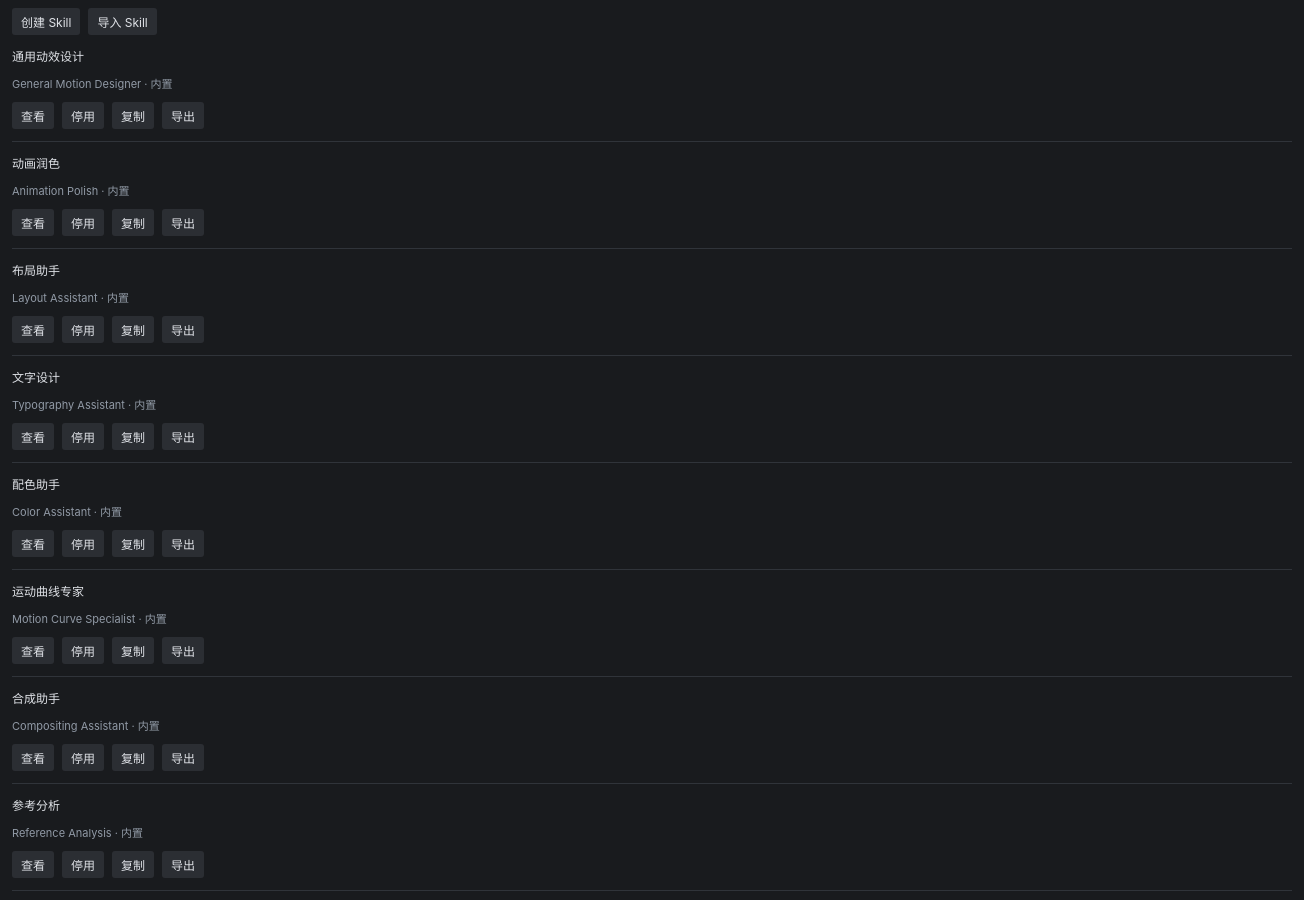
Test: settings creates and edits a real user skill
The image size is (1304, 900).
Click the button "创建 Skill": (46, 22) [12,8,80,35]
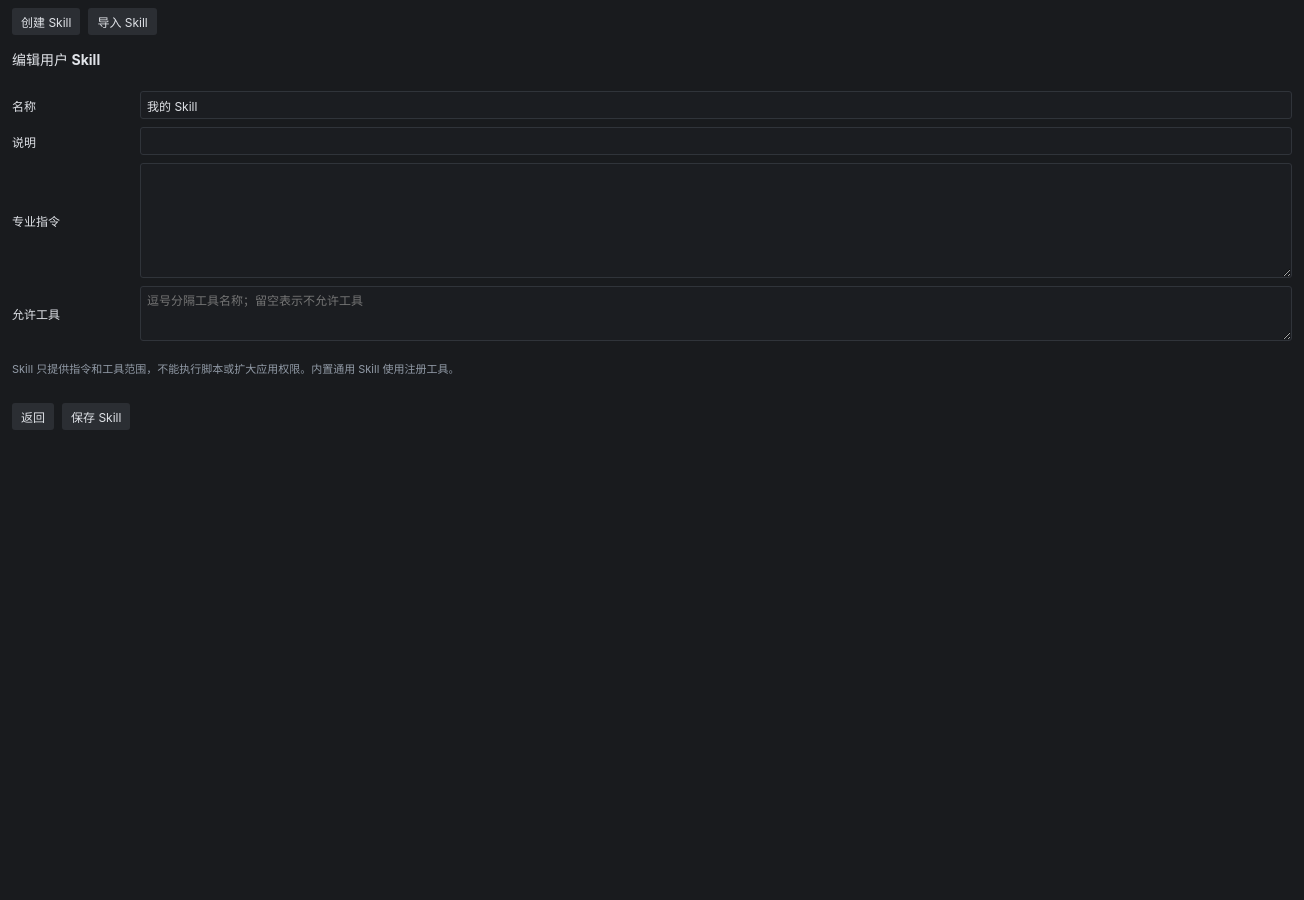
Replace the text in the field named "Skill 名称" with "我的布局规则": (716, 105) [140,91,1292,119]
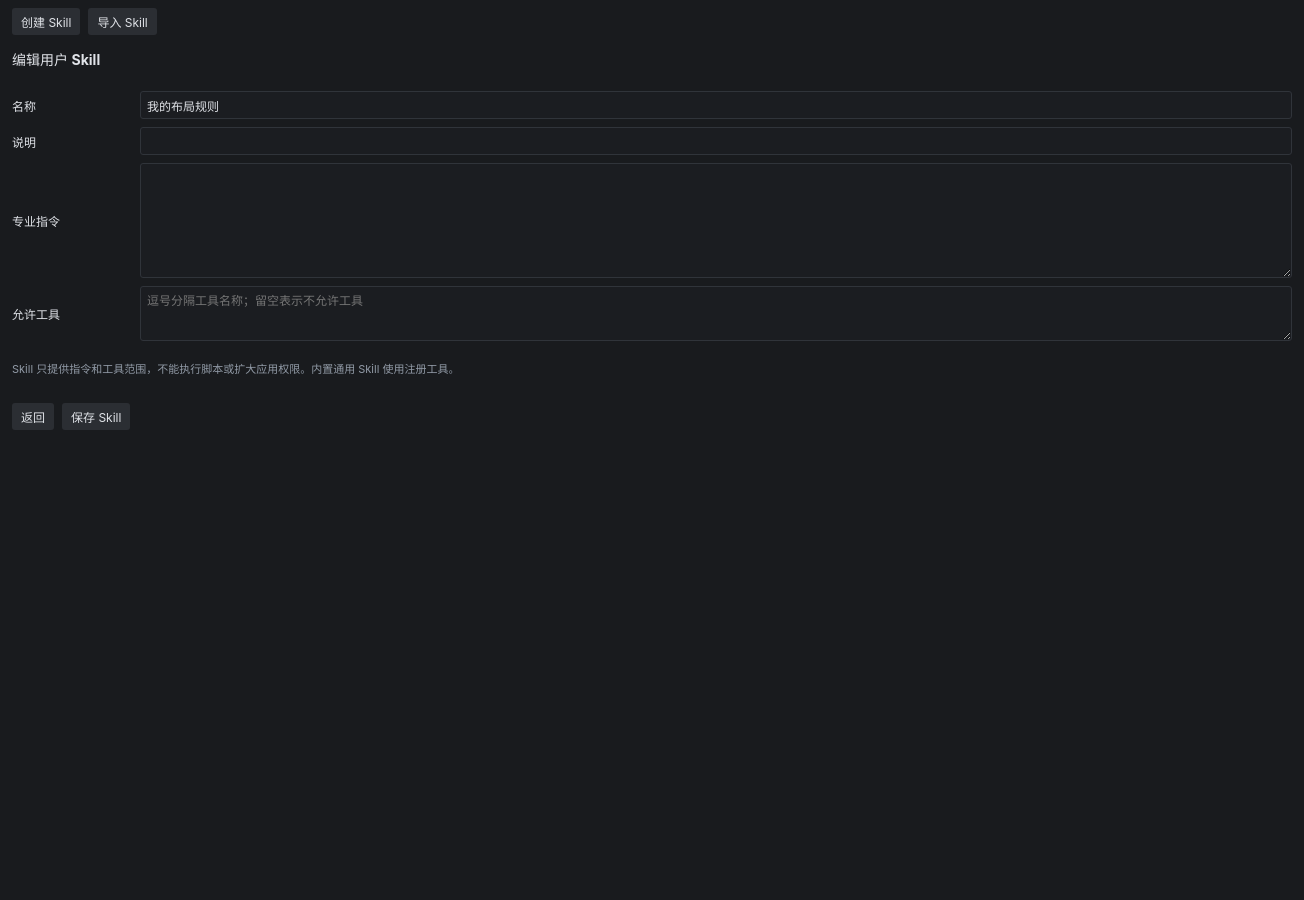
In the text box named "Skill 指令": (716, 221) [140,163,1292,278], type "保持大标题和留白"
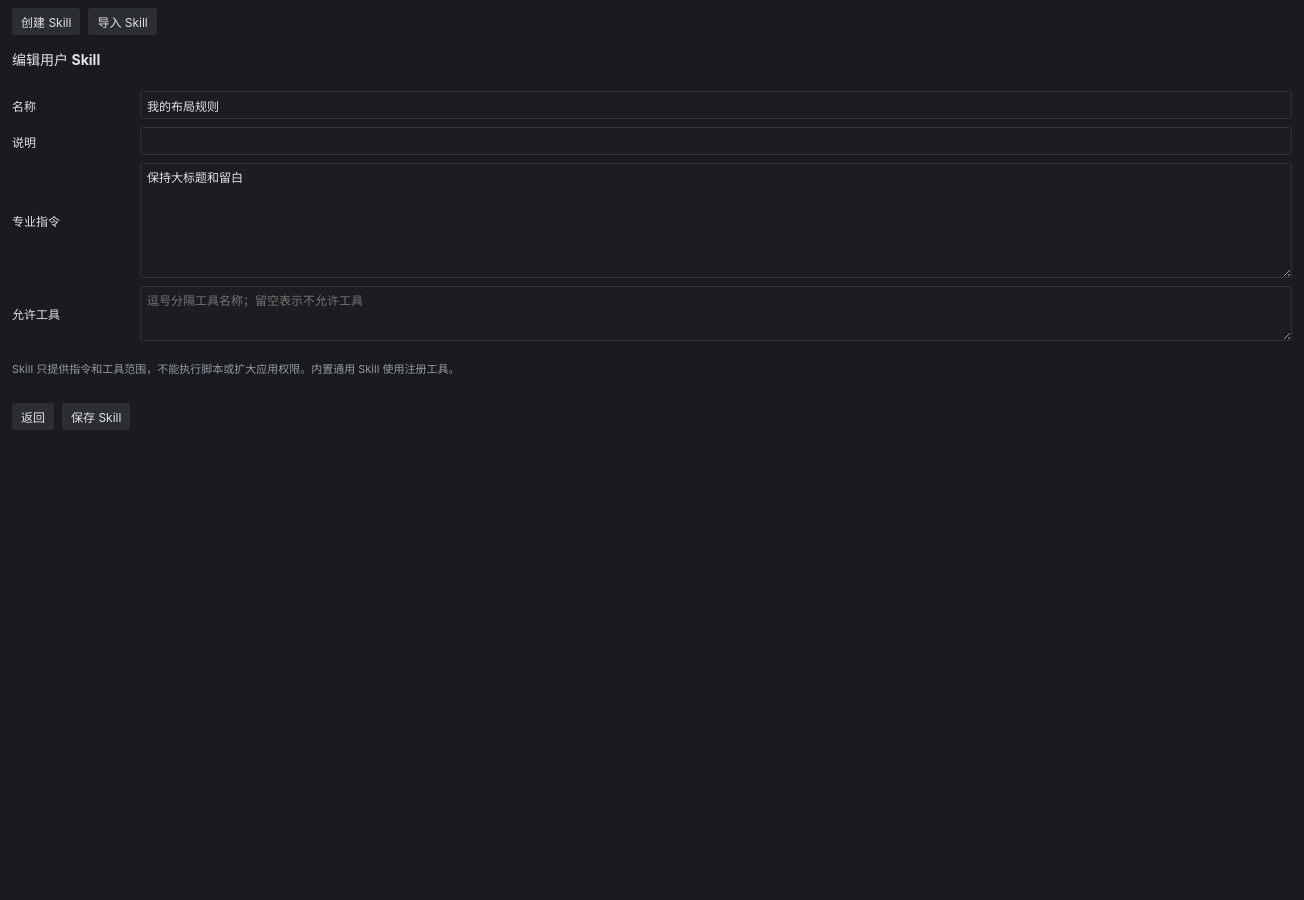
In the text box named "Skill 允许工具": (716, 314) [140,286,1292,341], type "inspectSelection, setPosition"
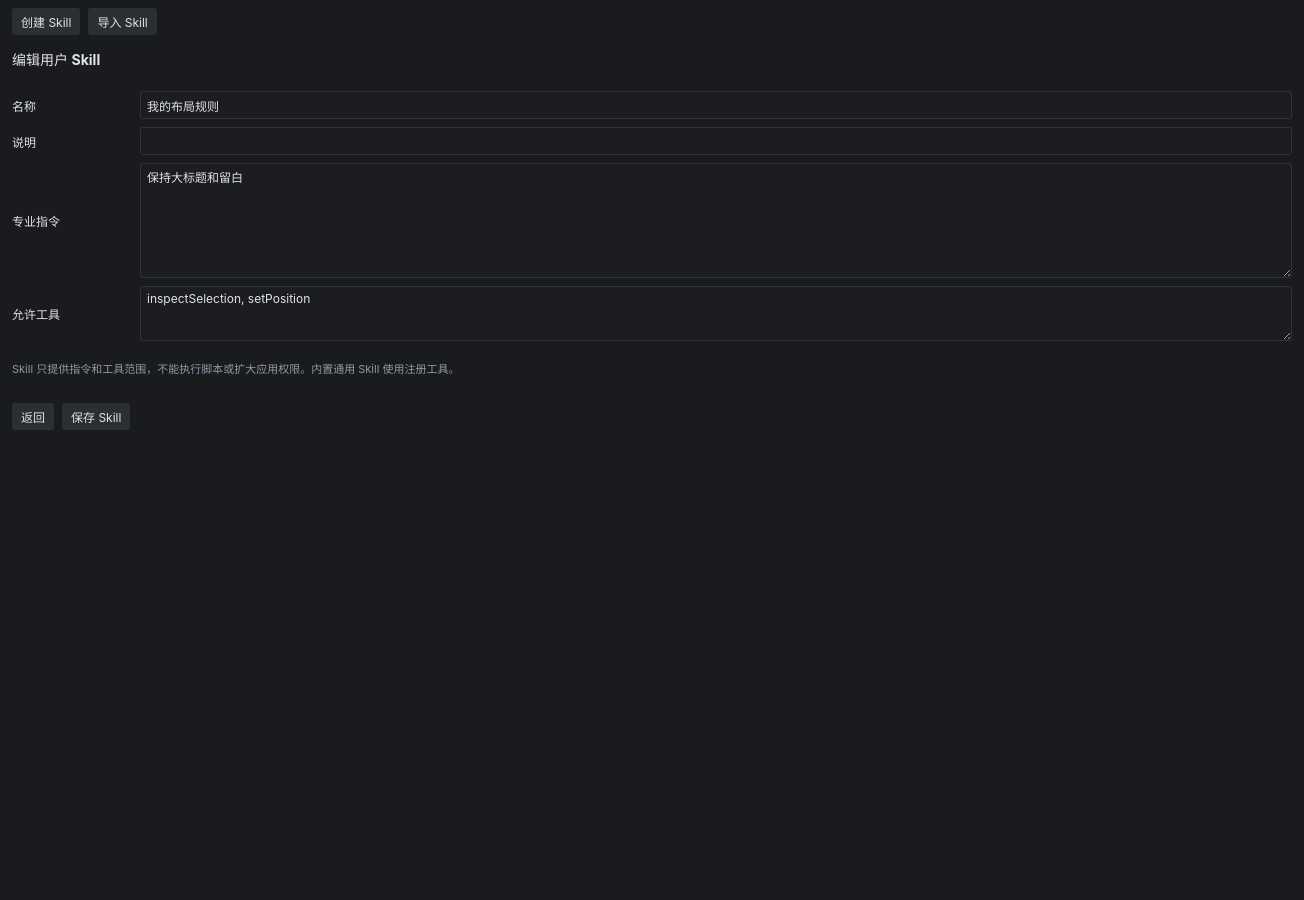
Click the button "保存 Skill": (96, 417) [62,403,130,430]
(page scrolled)
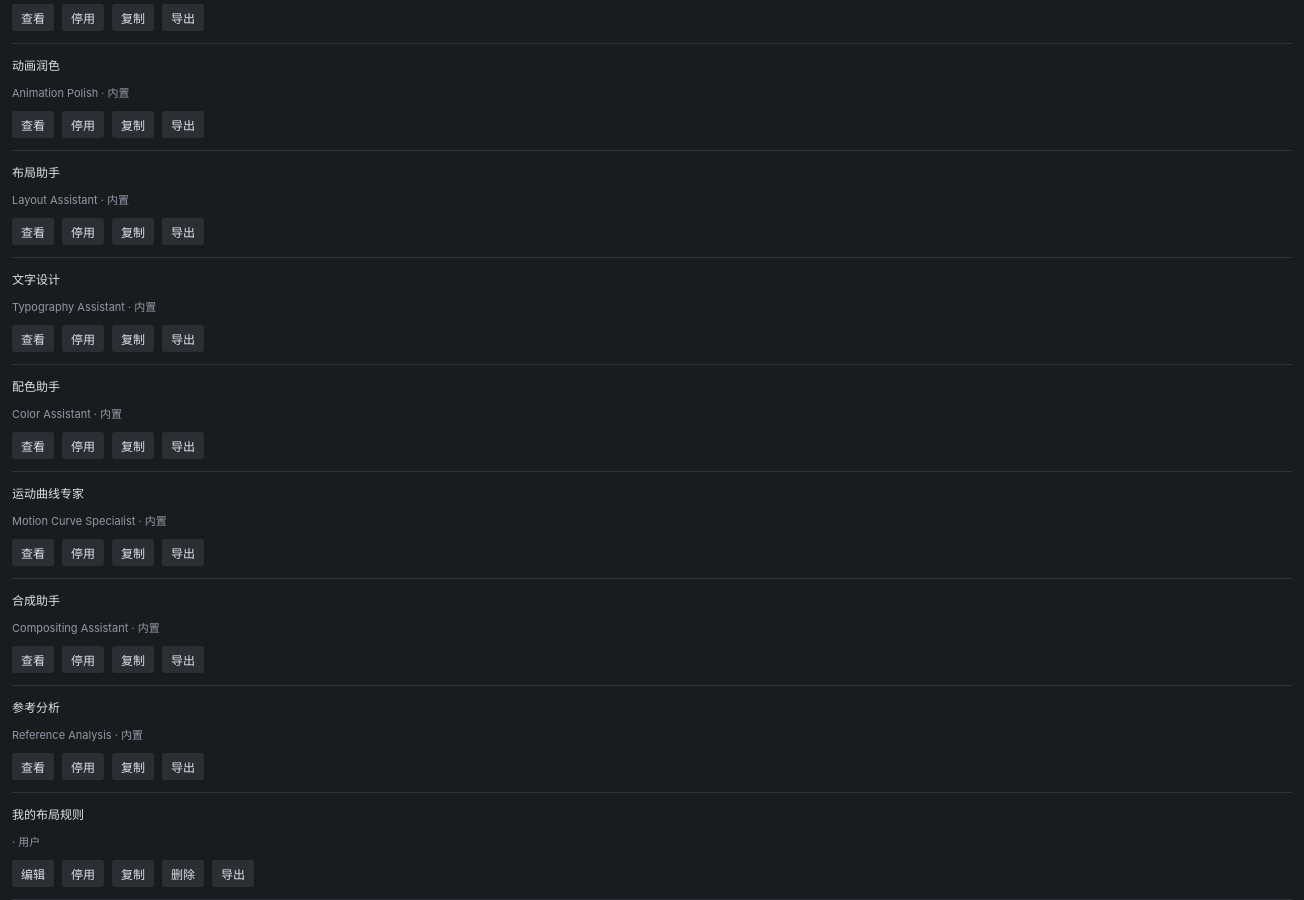
Check: the text "我的布局规则" is shown, box [12,807,84,822]
